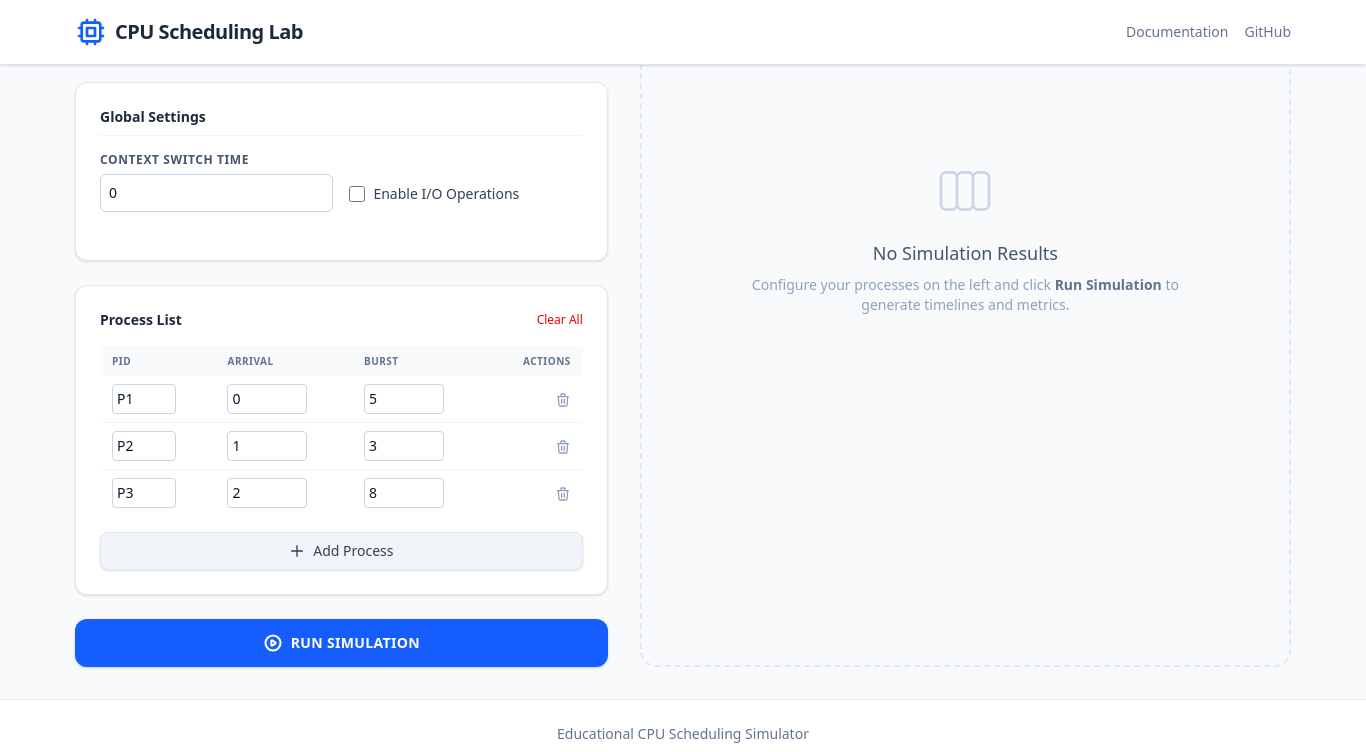
Scenario: App Integration › 3. Run Simulation displays real results and Gantt preview
The width and height of the screenshot is (1366, 752).
(page scrolled)
# Add a process so it can run
Step 1. Click the button "Add Process" → (341, 551), box left=100, top=532, right=583, bottom=570
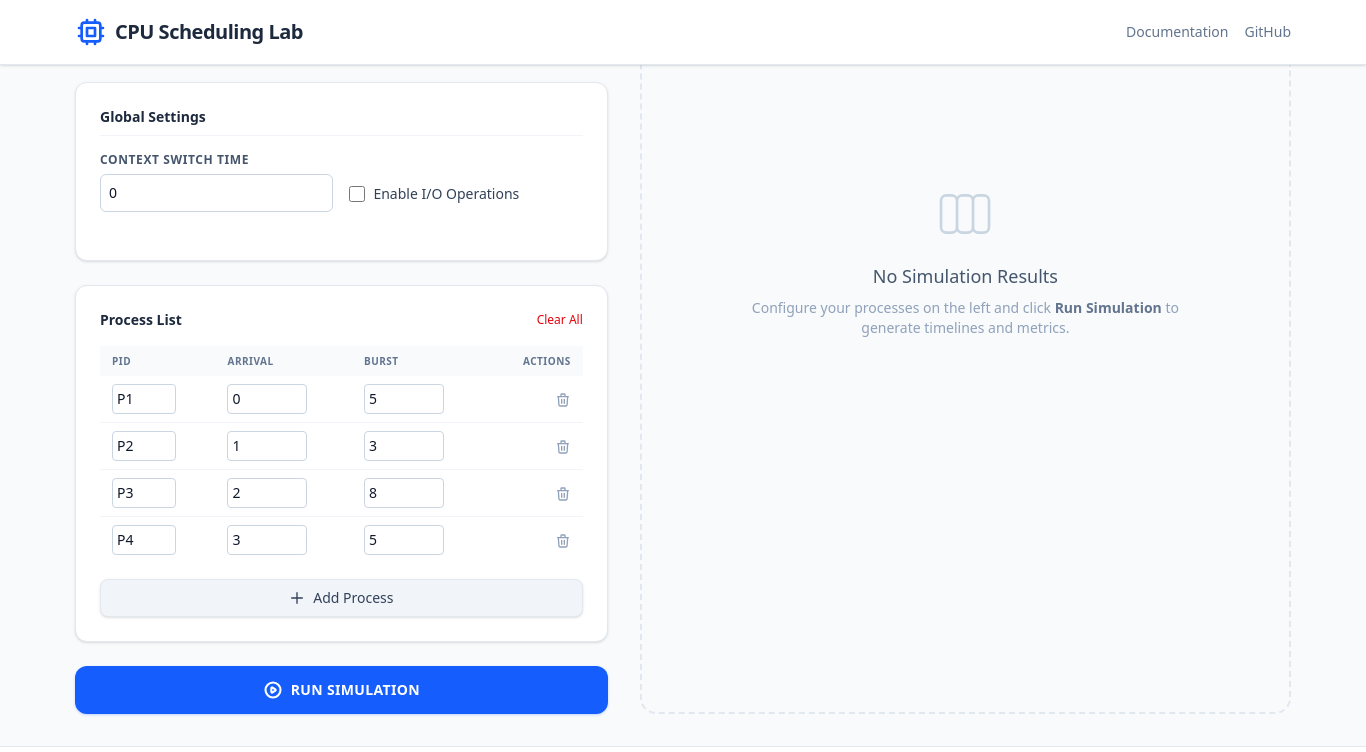
Step 2. Click the button "RUN SIMULATION" → (341, 690), box left=75, top=666, right=608, bottom=714
(page scrolled)
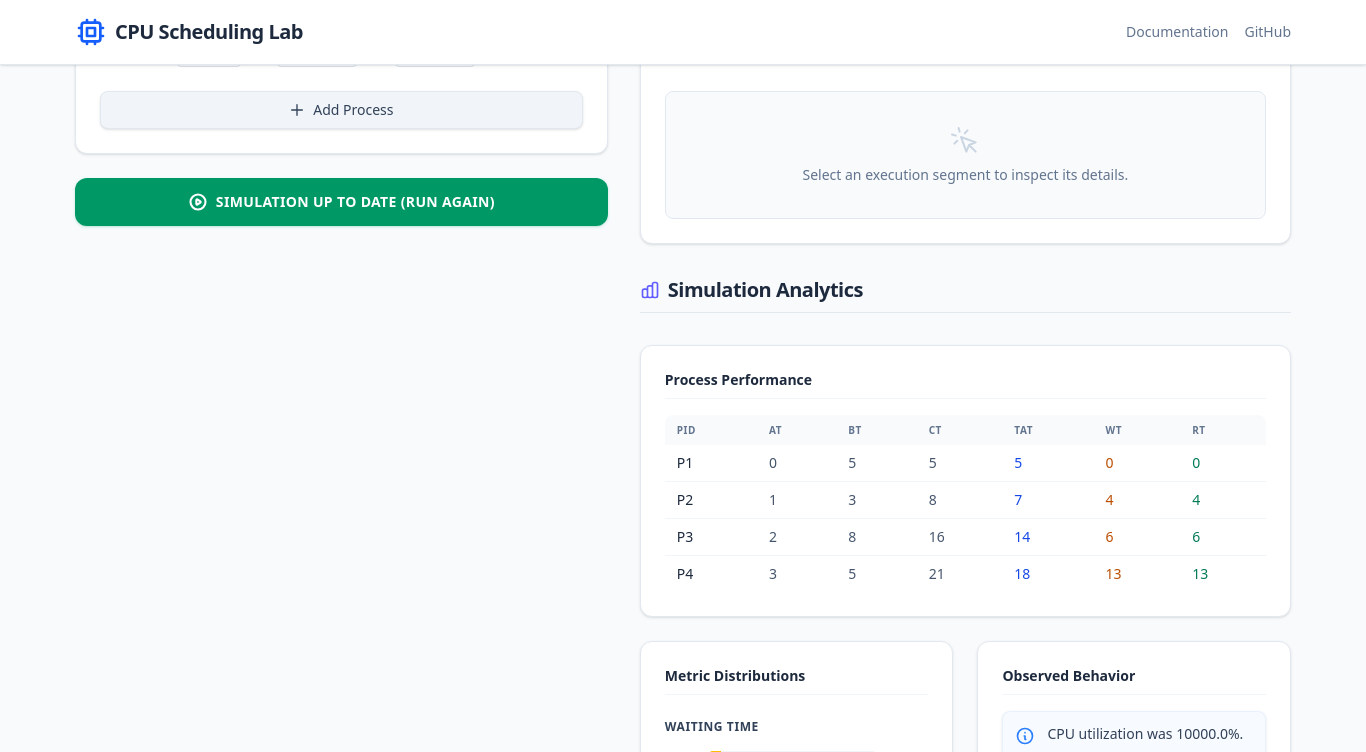
Result: the heading "Process Performance" is shown at left=665, top=370, right=1266, bottom=399
